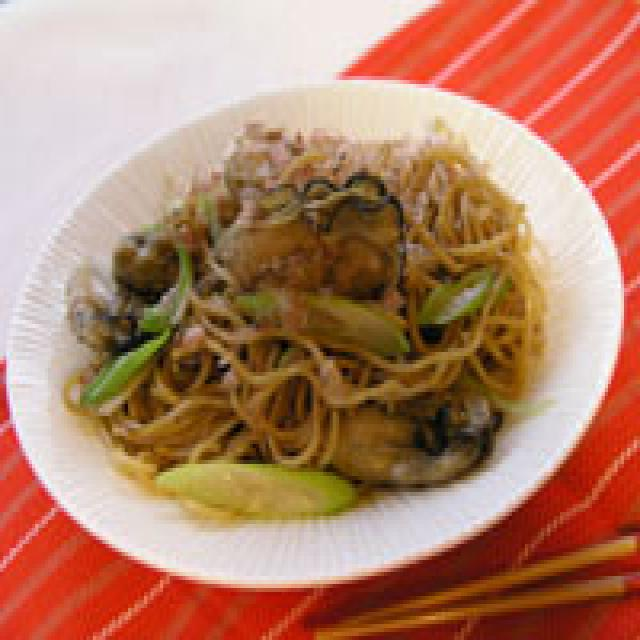面条主食: (0, 80, 627, 588)
